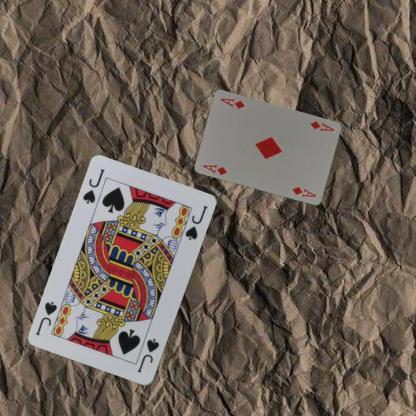Ad: (308, 118, 336, 133), (200, 162, 228, 176)
Js: (80, 166, 107, 206), (134, 336, 160, 374)
